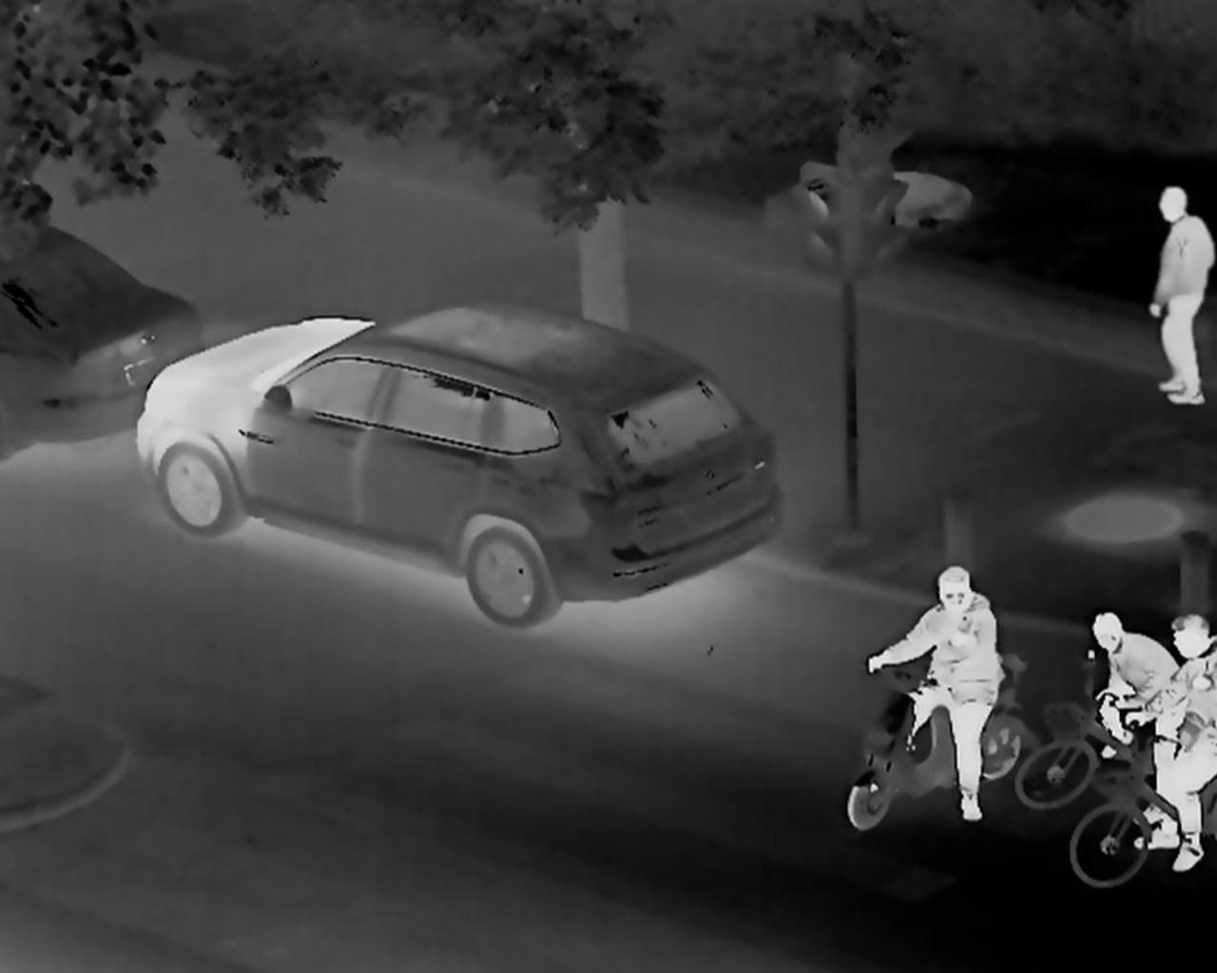person: (854, 553, 1006, 830), (1116, 615, 1217, 871), (1083, 607, 1177, 823), (1142, 178, 1213, 413)
